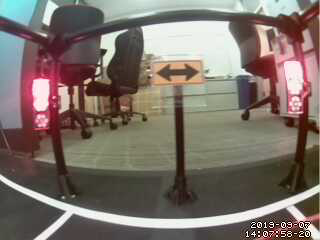Left_Right_sign: (153, 60, 213, 83)
Traffic_light_red: (31, 77, 50, 129), (288, 61, 303, 114)
